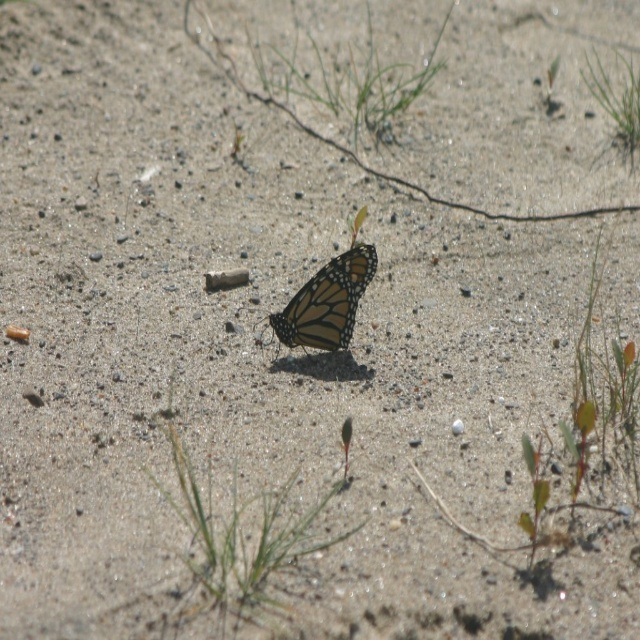Butterfly: (271, 237, 379, 369)
